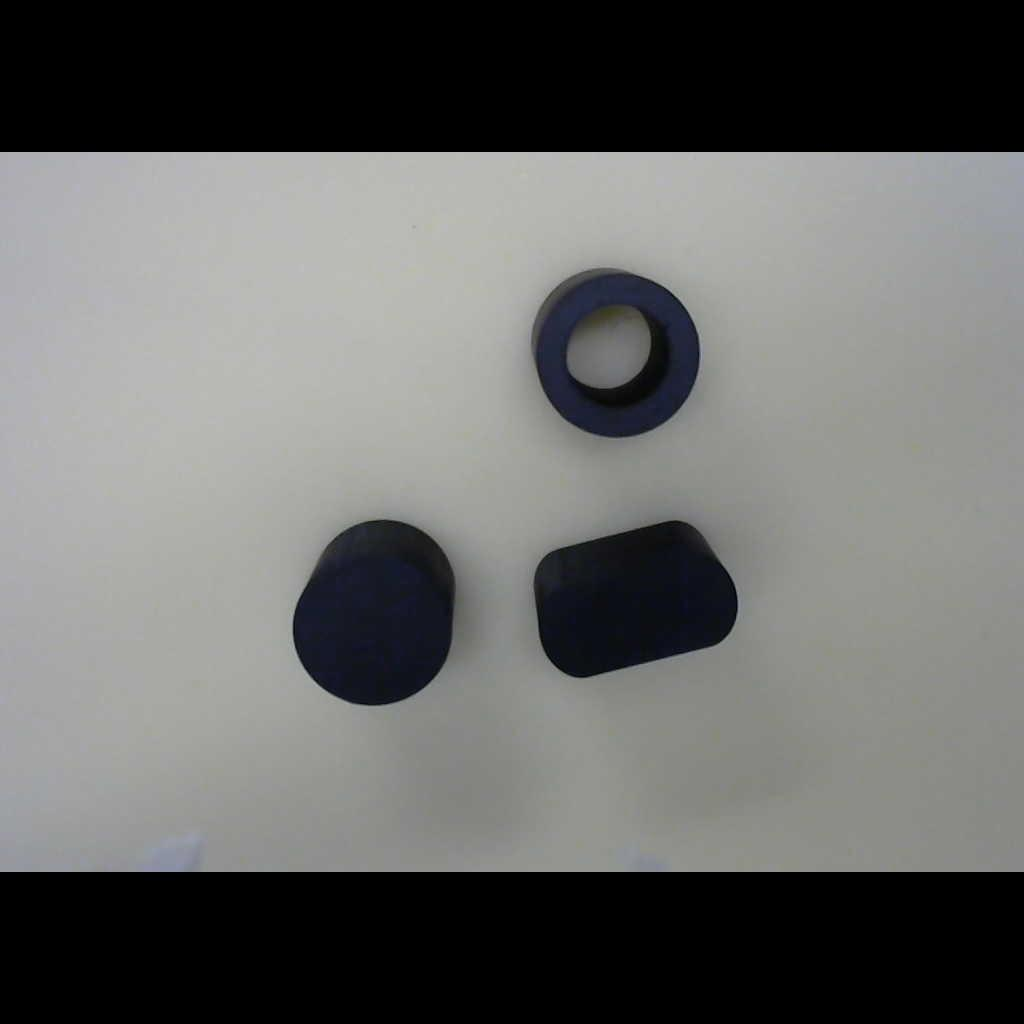circle: (282, 508, 467, 716)
oval: (511, 497, 761, 702)
ring: (512, 263, 712, 452)
